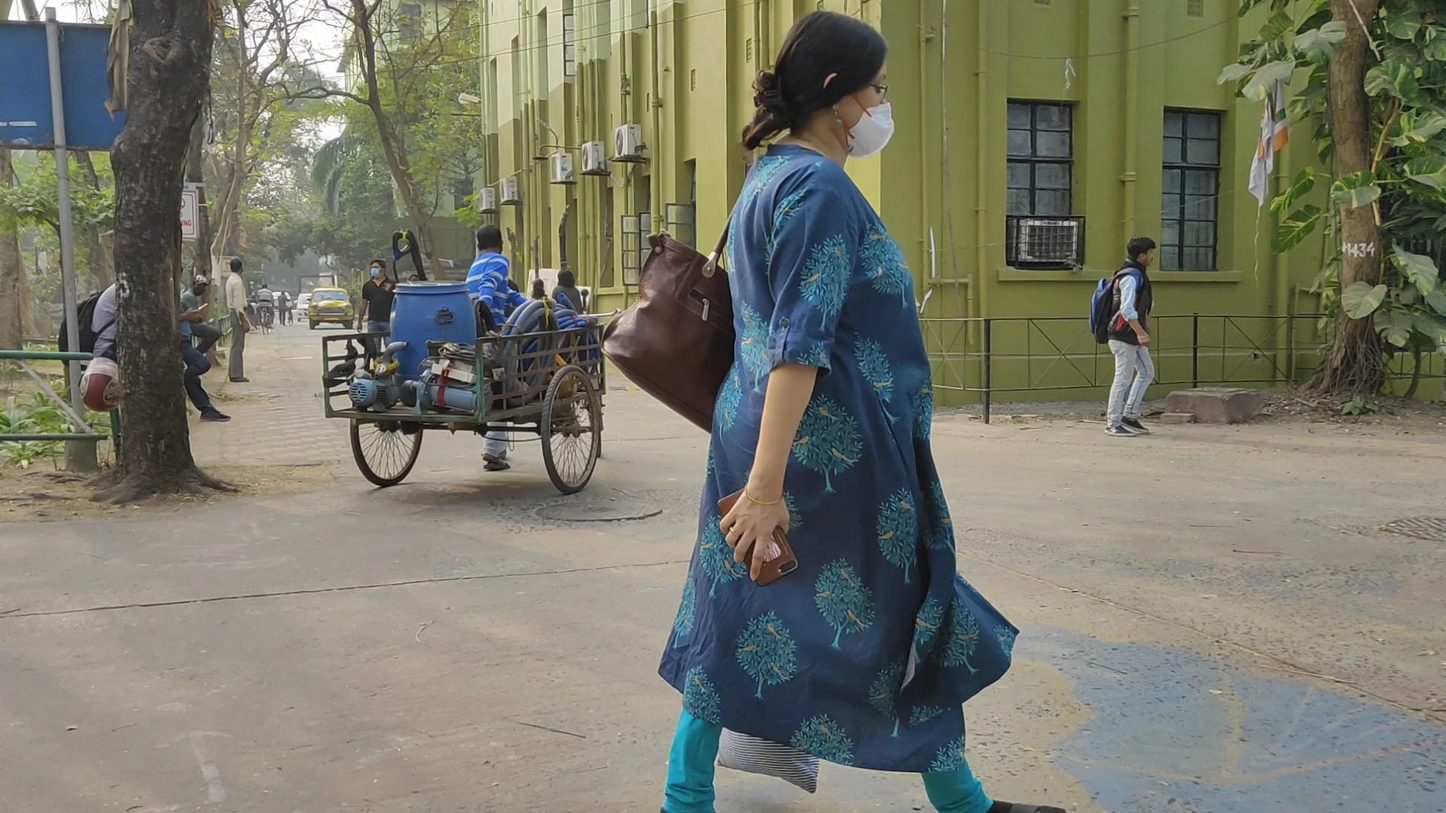bike: (256, 283, 275, 335)
car: (307, 288, 355, 330)
